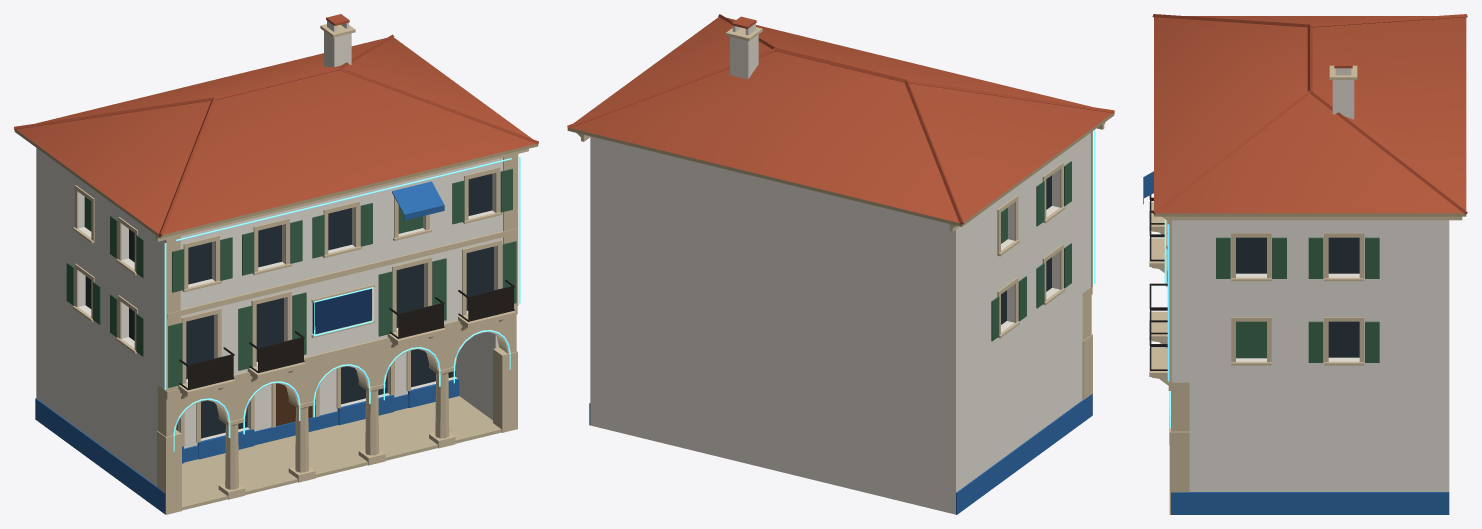
3 views of the same model, side by side, from view 1: azimuth 30°, elevation 25°; view 2: azimuth 150°, elevation 25°; view 3: azimuth 270°, elevation 25° (orthographic). The views are drawn at different scales.
Visible parts, largest first — view 1: projects.lod1; view 2: projects.lod1; view 3: projects.lod1.
Part boxes in pixels (left/top/right/bottom): projects.lod1: left=14, top=14, right=538, bottom=514; projects.lod1: left=567, top=14, right=1114, bottom=514; projects.lod1: left=1143, top=14, right=1467, bottom=514.
Size of the model in its own units: 15.2 by 14.31 by 10.5.
